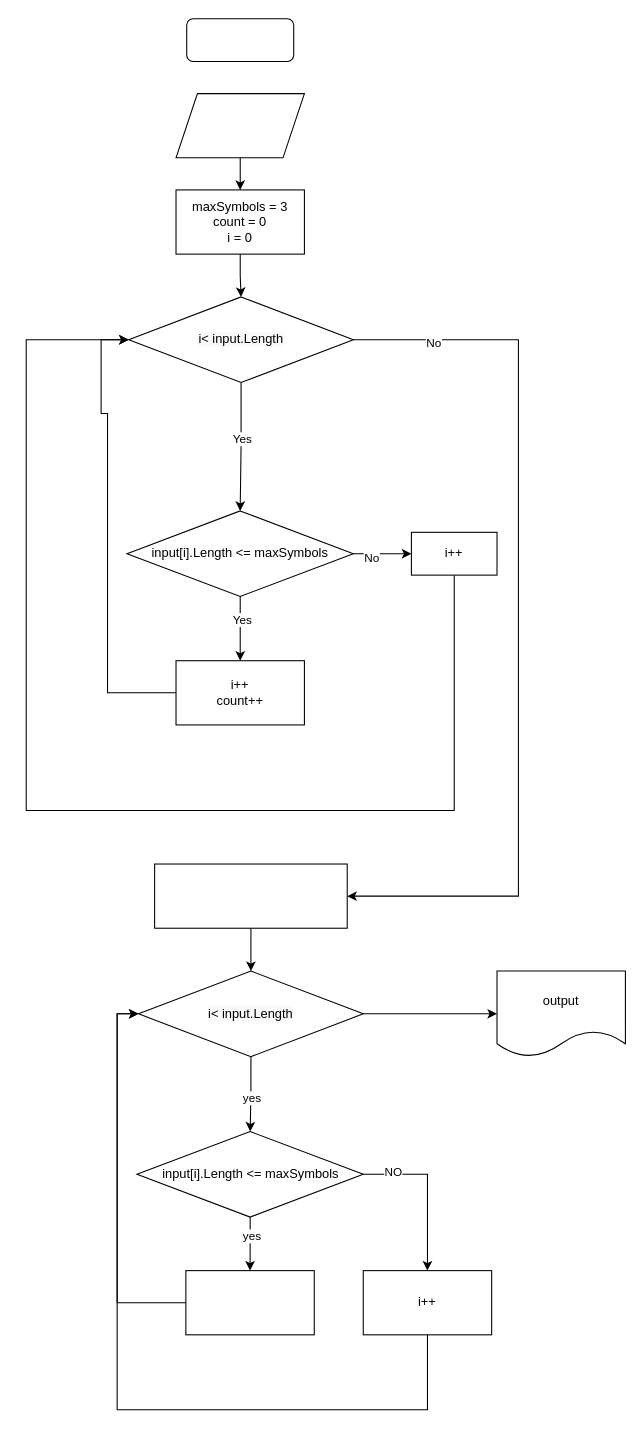
This 644x1437 diagram has some shape labels left out. Here are the shapes that lost their labels. From the top down, the centre of each, then its label:
At (x=240, y=40): "Start".
At (x=239, y=125): "input".
At (x=250, y=895): "I=0 j=0 output=newArray[count]".
At (x=249, y=1302): "output[j]=input[I] j++ I++".
